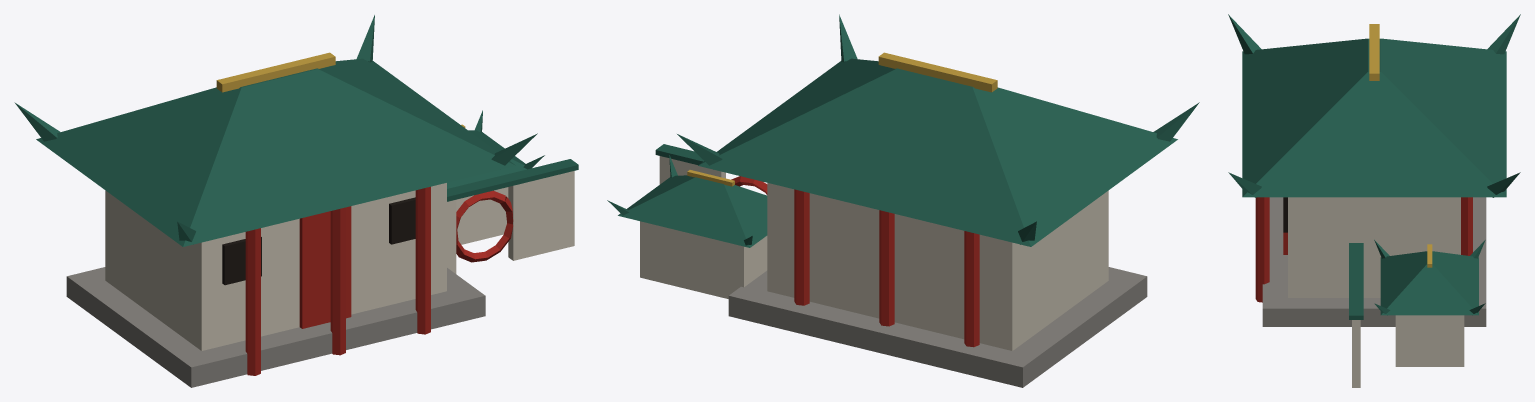
The model's file is dragon_hall.glb.
3 renders of one model, left to right at view 1: azimuth 30°, elevation 25°; view 2: azimuth 150°, elevation 25°; view 3: azimuth 270°, elevation 25°, orthographic. The views are drawn at different scales.
Parts seen in each view (by area): view 1: dragon_hall; view 2: dragon_hall; view 3: dragon_hall.
Boxes of the visible parts, x1,y1,x2,y2 form: dragon_hall: (14, 15, 578, 387); dragon_hall: (607, 14, 1199, 387); dragon_hall: (1228, 14, 1520, 387).
Size of the model in its own units: 6.93 by 3.36 by 4.18.
